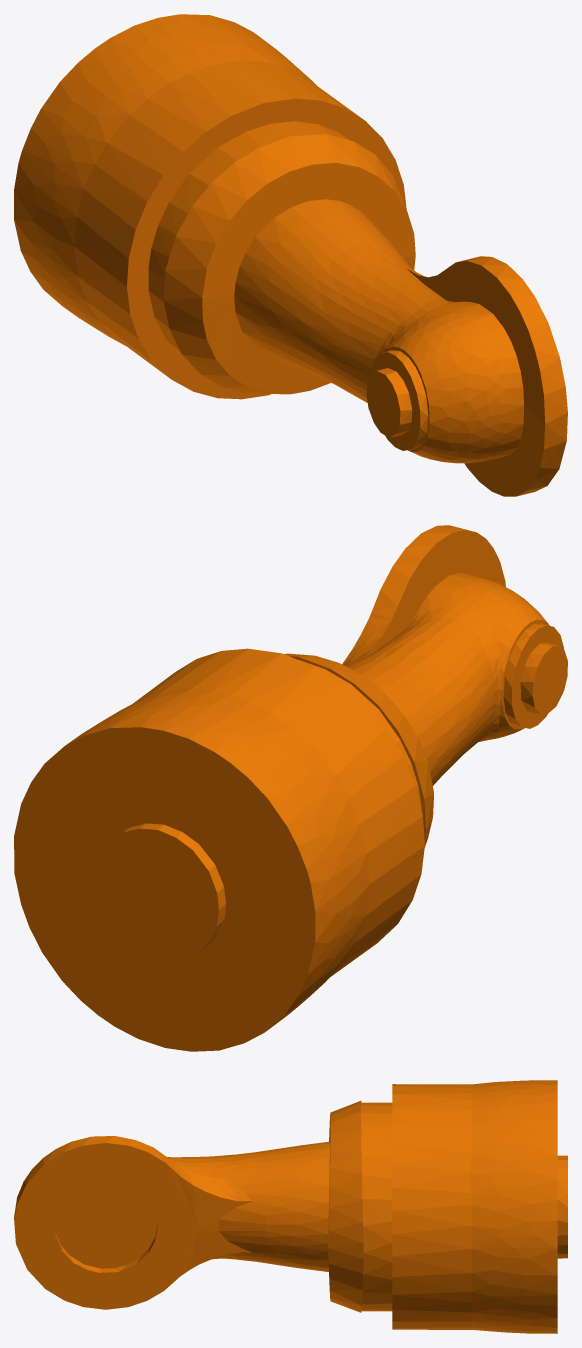
The model's file is KR210_3100_ultra_A4.dae.
3 views of the same model, one above another, from view 1: azimuth 30°, elevation 25°; view 2: azimuth 150°, elevation 25°; view 3: azimuth 270°, elevation 25° (orthographic). The views are drawn at different scales.
Parts seen in each view (by area): view 1: KR 210 3100 ultra A4; view 2: KR 210 3100 ultra A4; view 3: KR 210 3100 ultra A4.
Part boxes in pixels (x1,y1,x2,y2): KR 210 3100 ultra A4: [14, 14, 567, 496]; KR 210 3100 ultra A4: [14, 525, 567, 1051]; KR 210 3100 ultra A4: [14, 1080, 567, 1333].
Bounding box in the file's own units: 0.2458 × 0.5374 × 0.2477.
